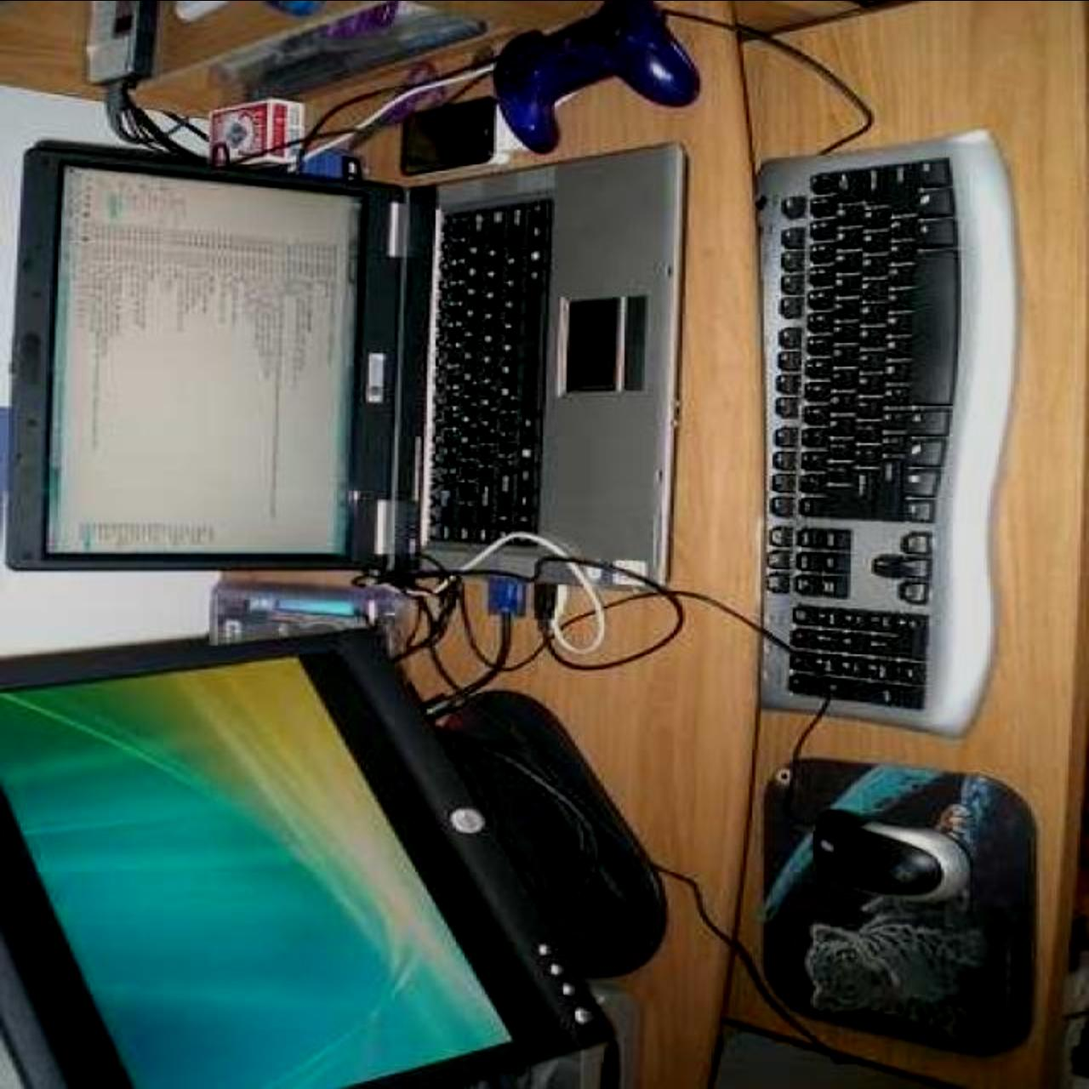laptop: (10, 150, 677, 606)
